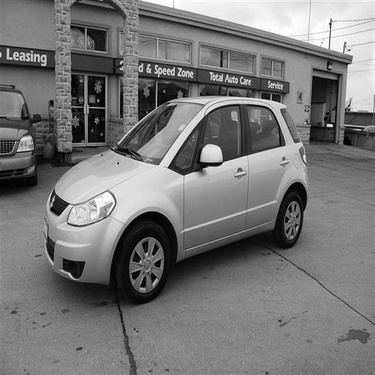car: (36, 88, 314, 290), (1, 97, 38, 181), (346, 111, 375, 135)
